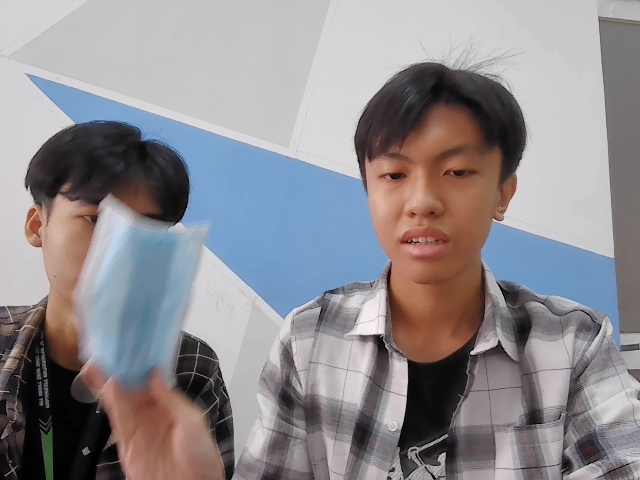human: (354, 61, 528, 285)
mask: (79, 196, 200, 396)
